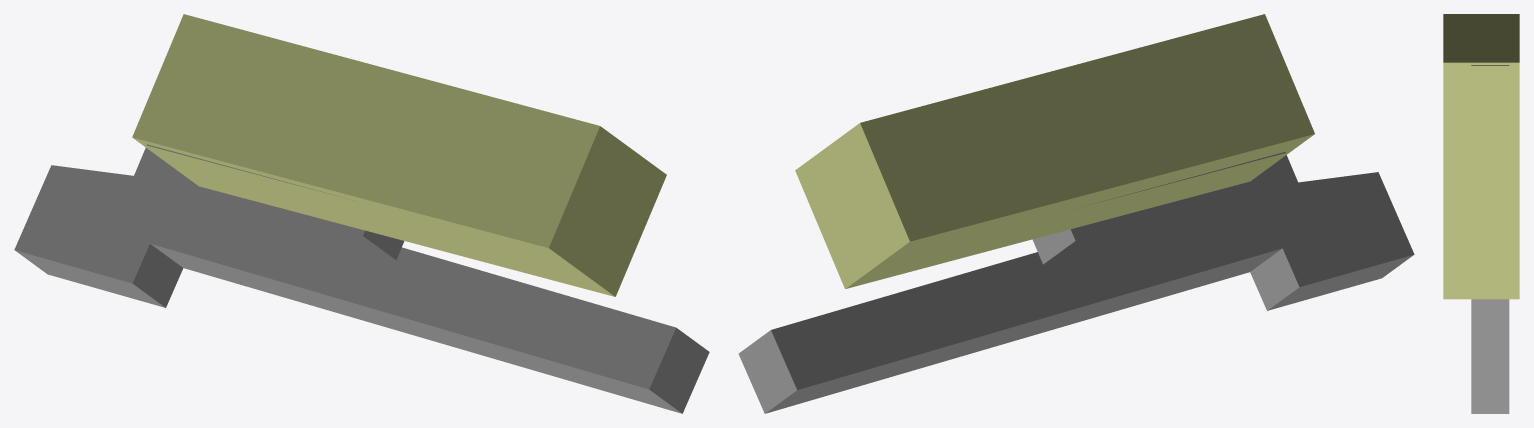
The picture shows the model from 3 angles, left to right: view 1: azimuth 30°, elevation 25°; view 2: azimuth 150°, elevation 25°; view 3: azimuth 270°, elevation 25°; orthographic projection. The views are drawn at different scales.
Parts seen in each view (by area): view 1: 0_1_0_0_1_0_3_3_1; view 2: 0_1_0_0_1_0_3_3_1; view 3: 0_1_0_0_1_0_3_3_1.
Boxes of the visible parts, box(x1,y1,x2,y2) form: 0_1_0_0_1_0_3_3_1: box(14, 14, 709, 413); 0_1_0_0_1_0_3_3_1: box(738, 14, 1414, 413); 0_1_0_0_1_0_3_3_1: box(1443, 14, 1519, 413).
Size of the model in its own units: 34.32 by 23.8 by 6.
